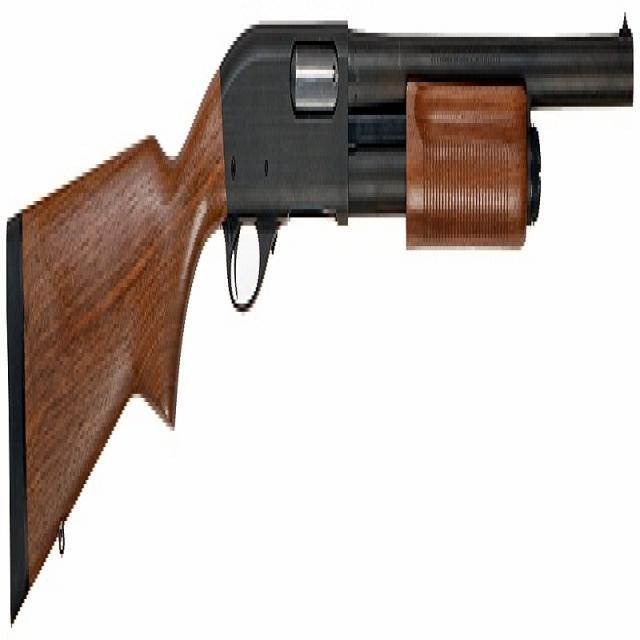gun-knife-thesis - v11 Yolov5 augmented: (3, 4, 634, 616)
